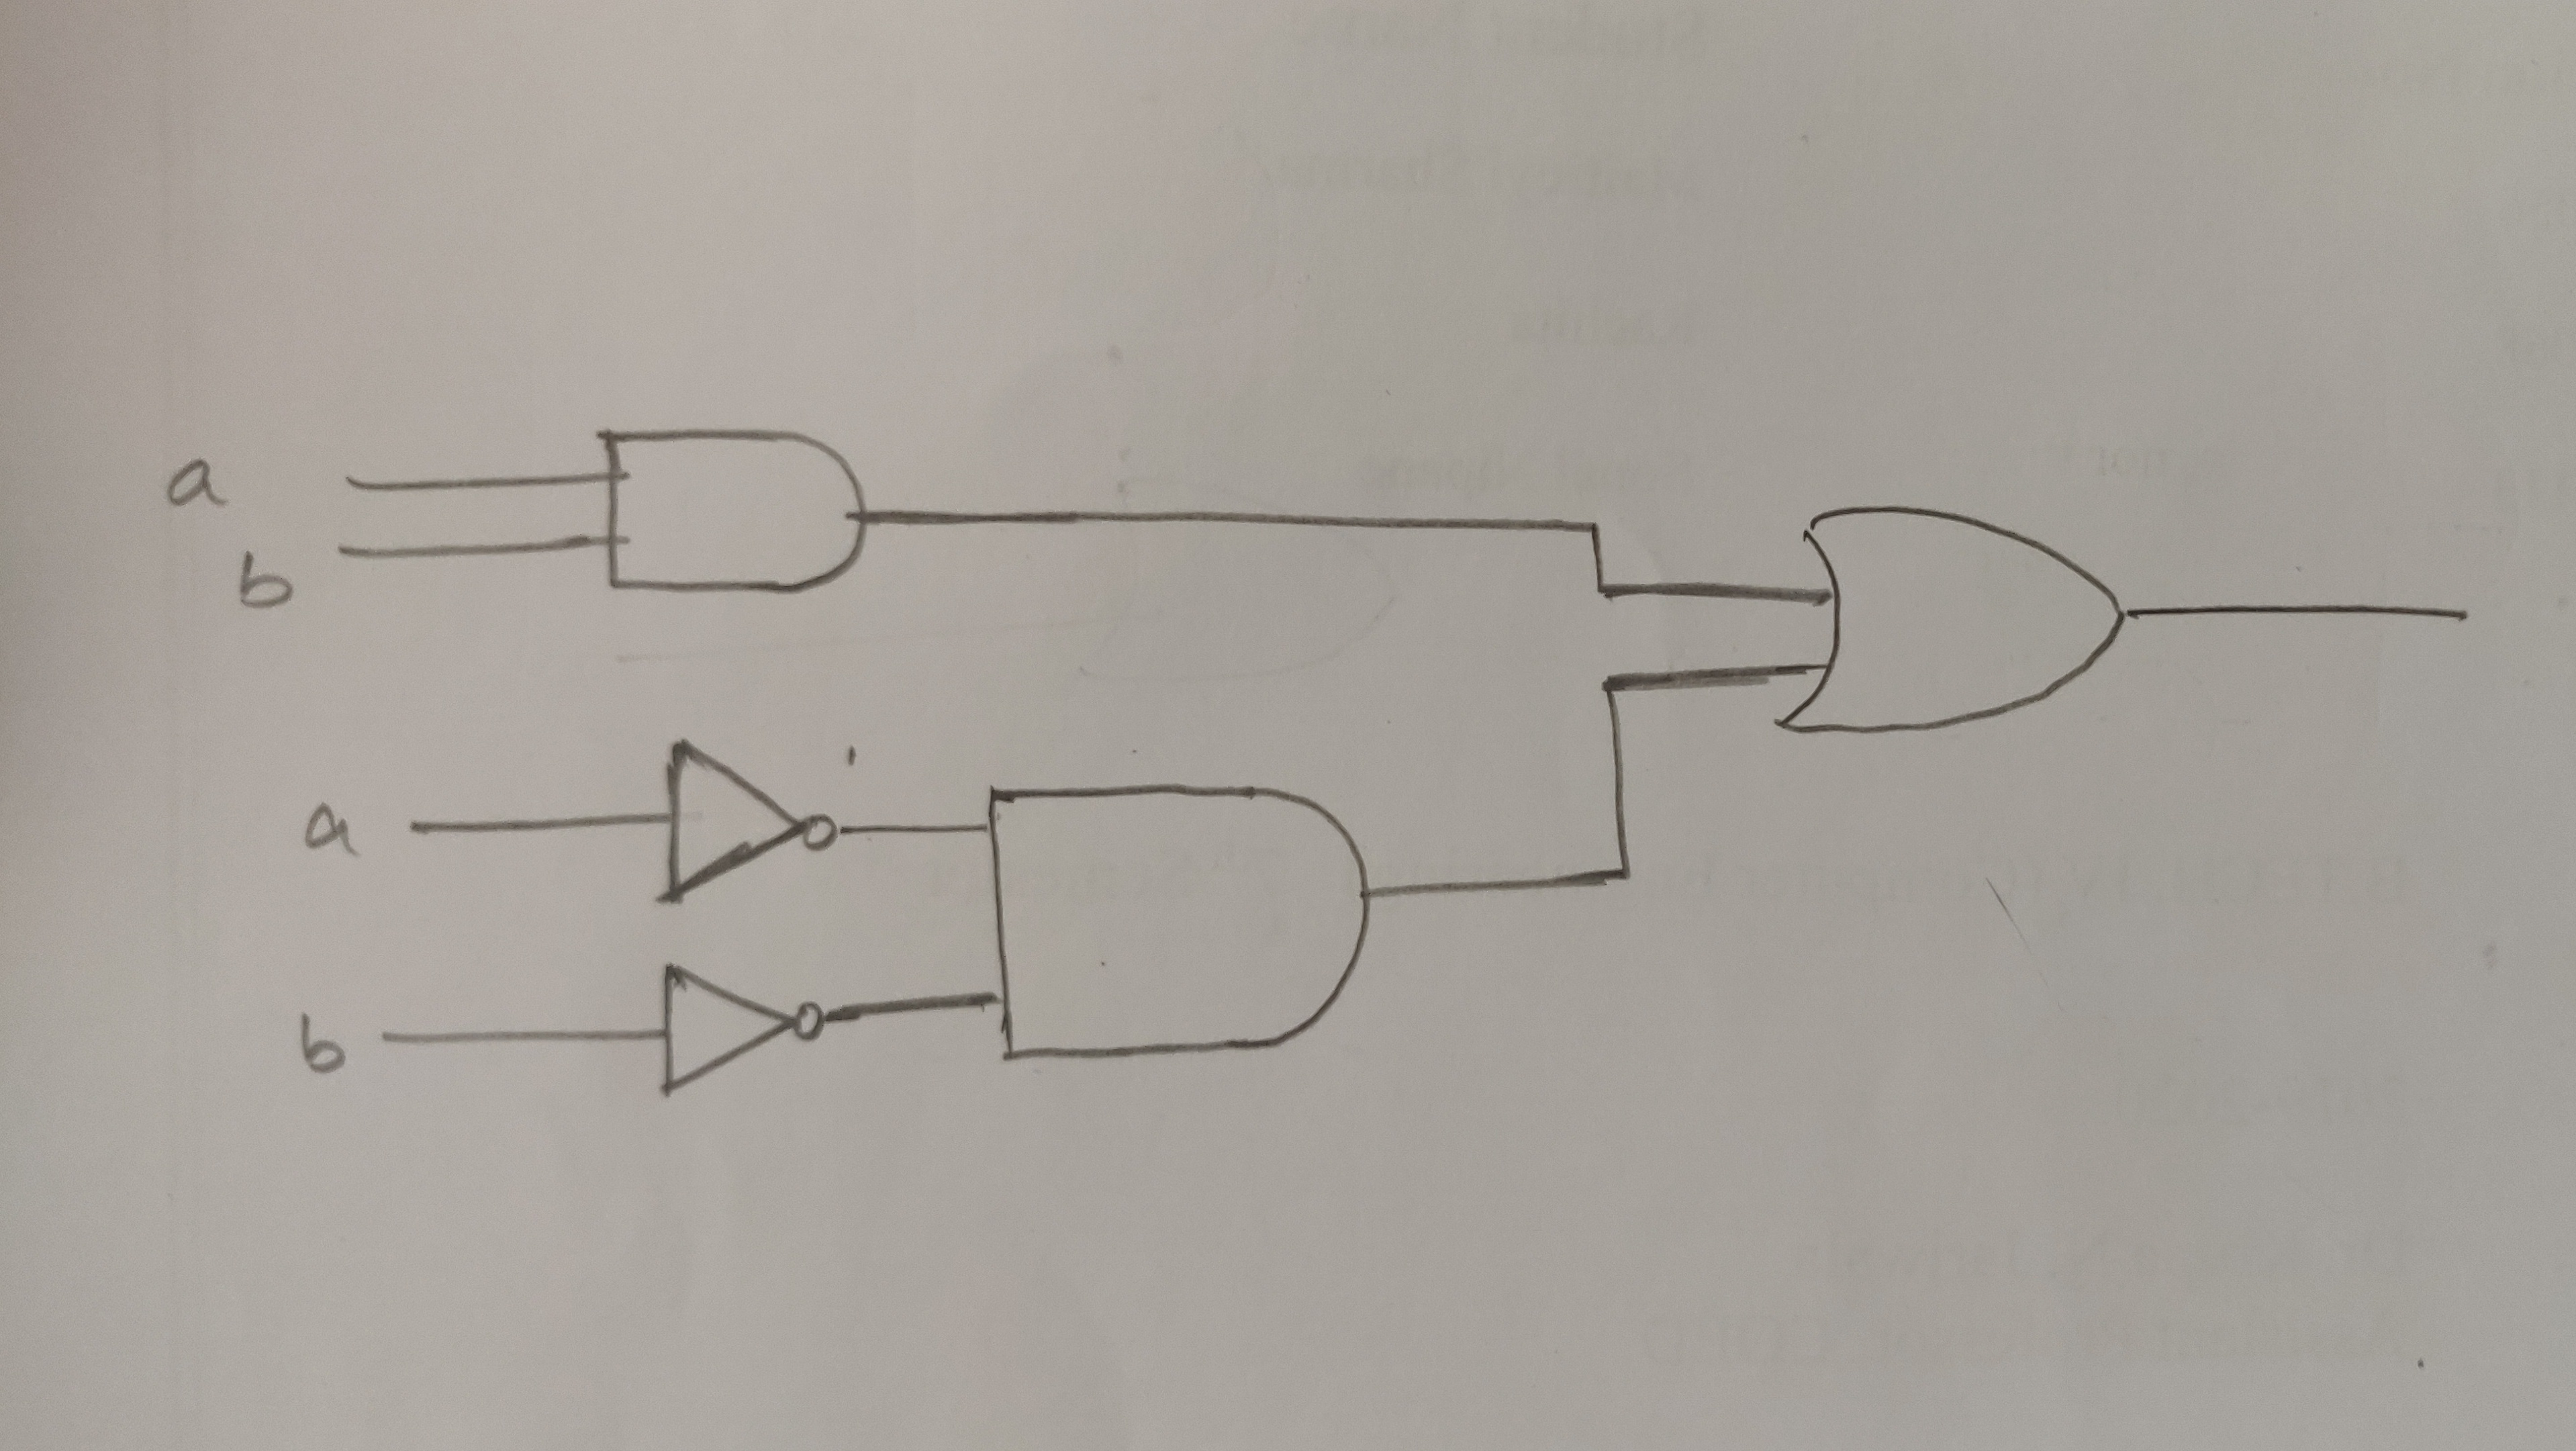and: (908, 710, 1428, 1157), (571, 368, 897, 626)
not: (591, 733, 865, 924), (623, 940, 849, 1138)
or: (1720, 435, 2203, 869)
